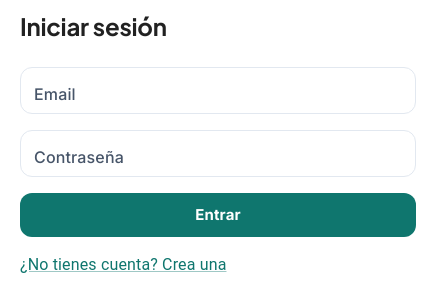
Test: LoginView › disables the button while the request is pending
Type "trainer@example.com" into the field labelled "Email".
click(218, 90); type("trainer@example.com")  # box [20,67,416,114]
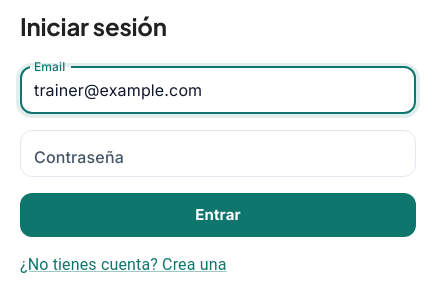
Type "Str0ng!pass" into the password field labelled "Contraseña".
click(218, 153); type("Str0ng!pass")  # box [20,130,416,177]
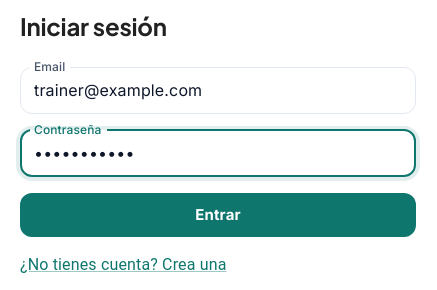
Click the button "Entrar".
click(218, 215)  # box [20,193,416,237]
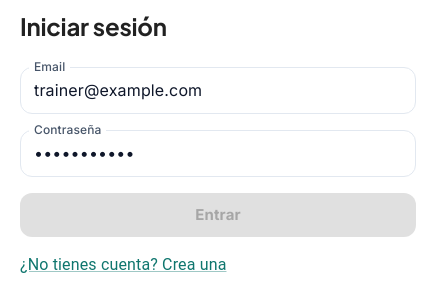
Check: the button "Entrar" is disabled, box [20,193,416,237]
